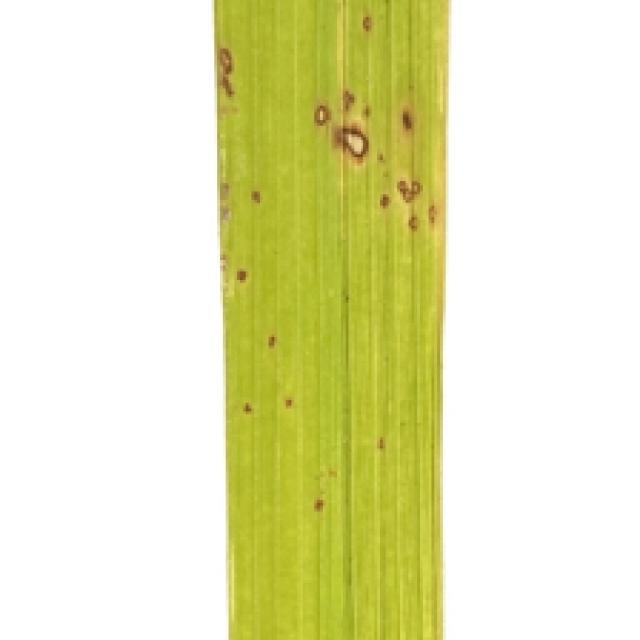Rice___Brown_Spot: (210, 0, 451, 637)
